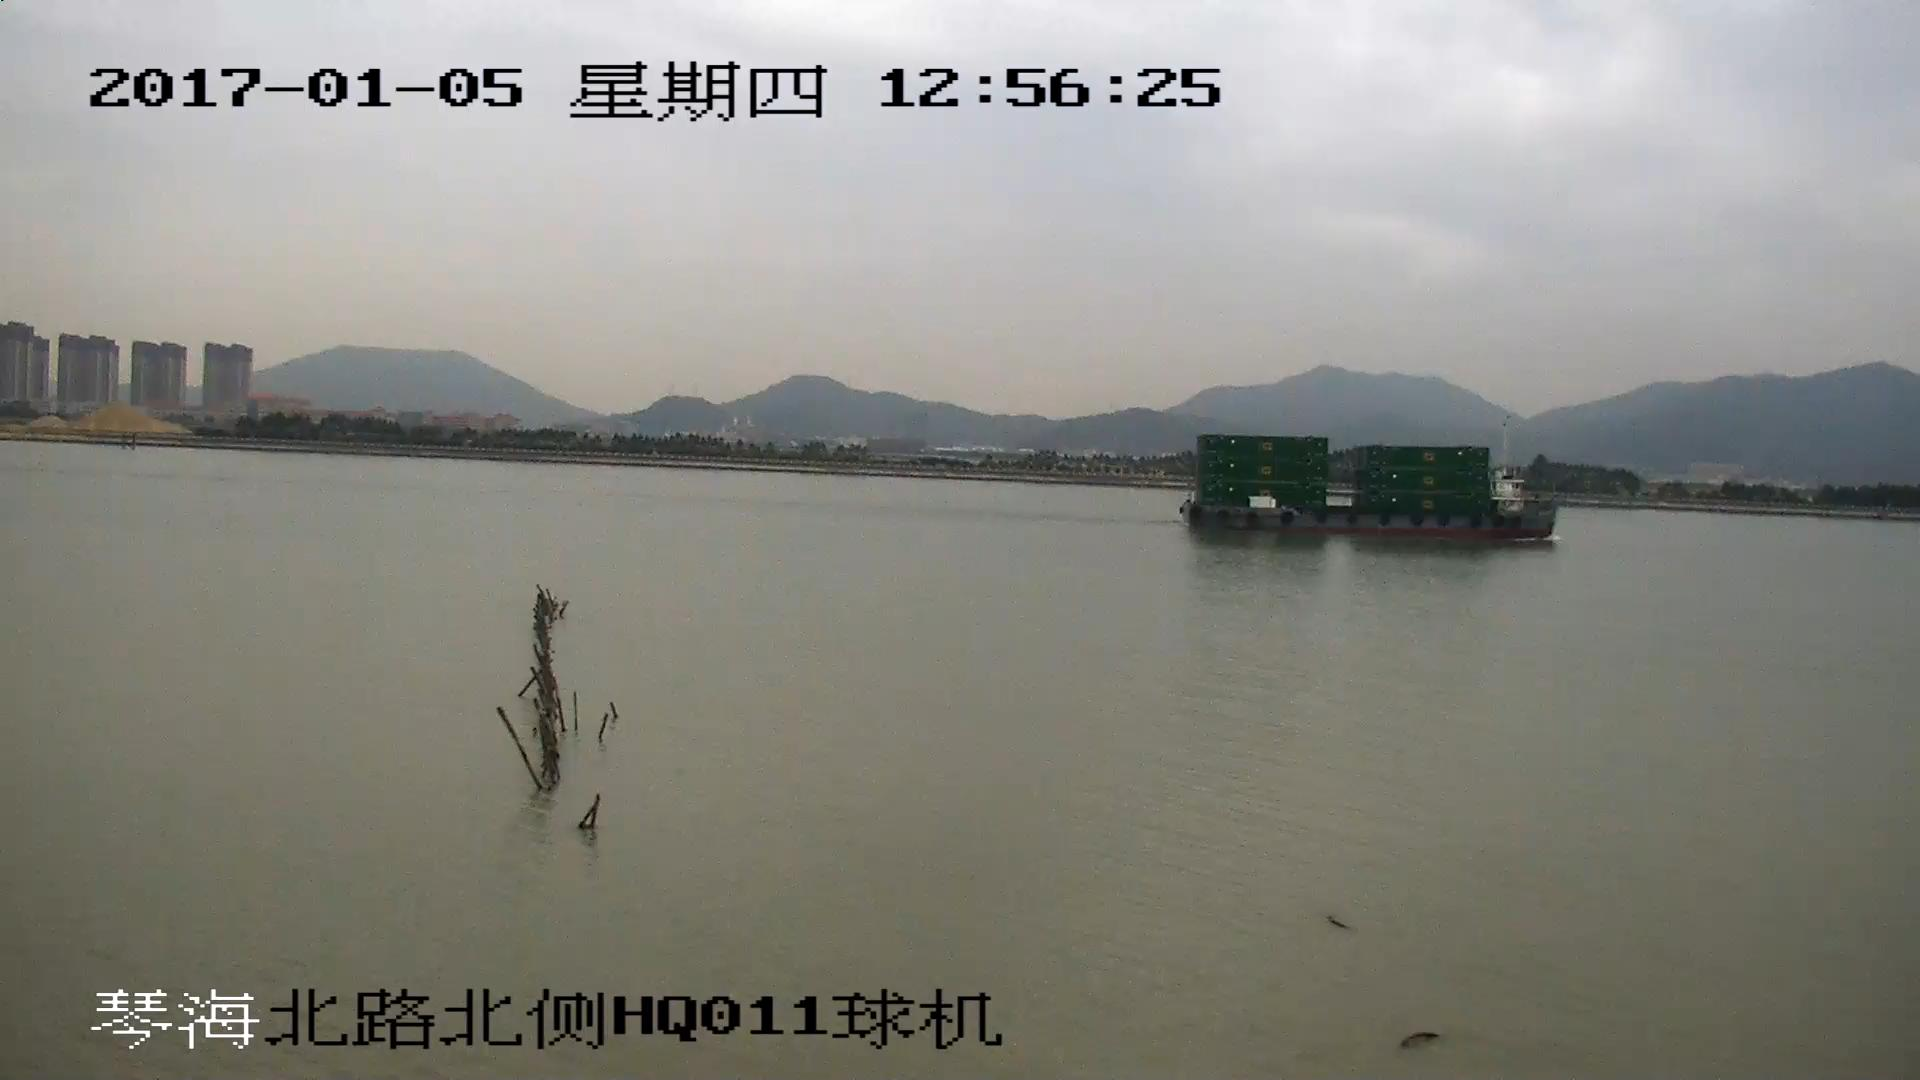container ship: (1183, 431, 1556, 544)
